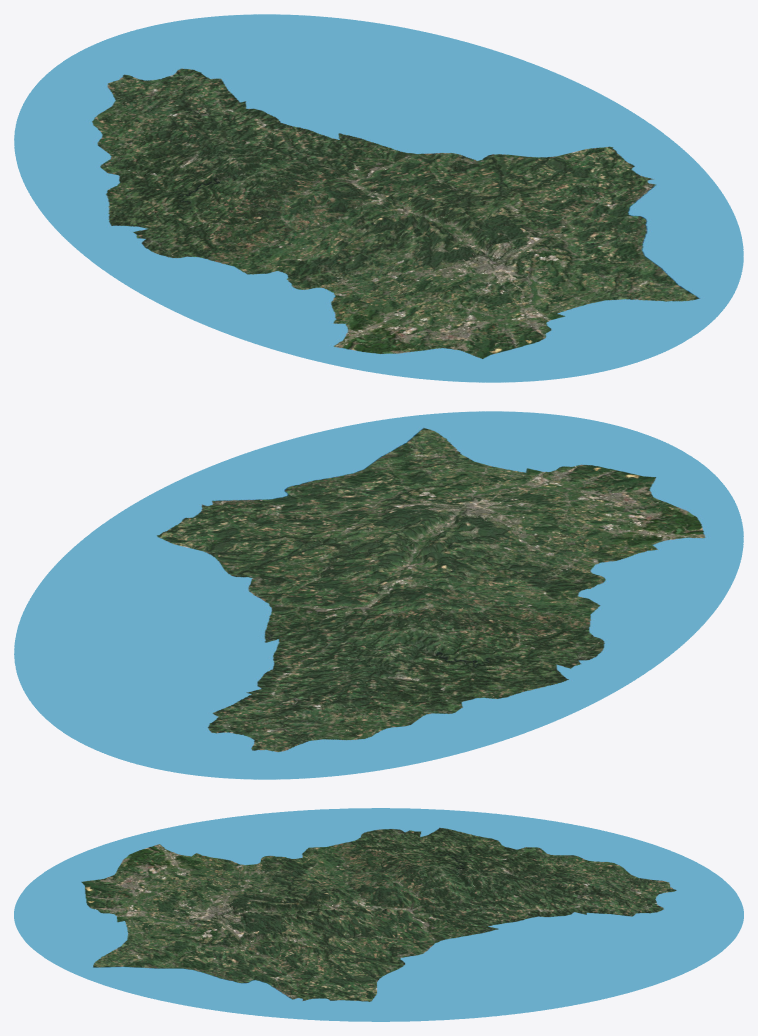
Rendered from LUX-previa-terrain.glb.
3 renders of one model, top to bottom at view 1: azimuth 30°, elevation 25°; view 2: azimuth 150°, elevation 25°; view 3: azimuth 270°, elevation 25°, orthographic. The views are drawn at different scales.
Visible parts, largest first — view 1: Luxemburgo; view 2: Luxemburgo; view 3: Luxemburgo.
Boxes of the visible parts, <box> form: Luxemburgo: <box>14,14,743,382</box>; Luxemburgo: <box>14,411,743,779</box>; Luxemburgo: <box>14,808,743,1021</box>.
Size of the model in its own units: 1.49 by 0.0416 by 2.15.
Materials: 1 (1 with a texture image).
